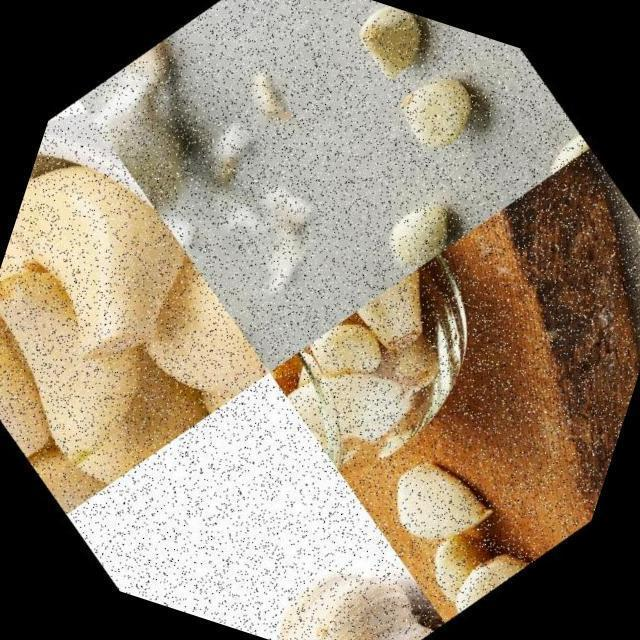garlic: (0, 111, 324, 560), (247, 236, 510, 506), (201, 486, 465, 640), (360, 422, 512, 574), (402, 488, 546, 636), (375, 42, 511, 180), (365, 171, 482, 292), (332, 0, 446, 98)
